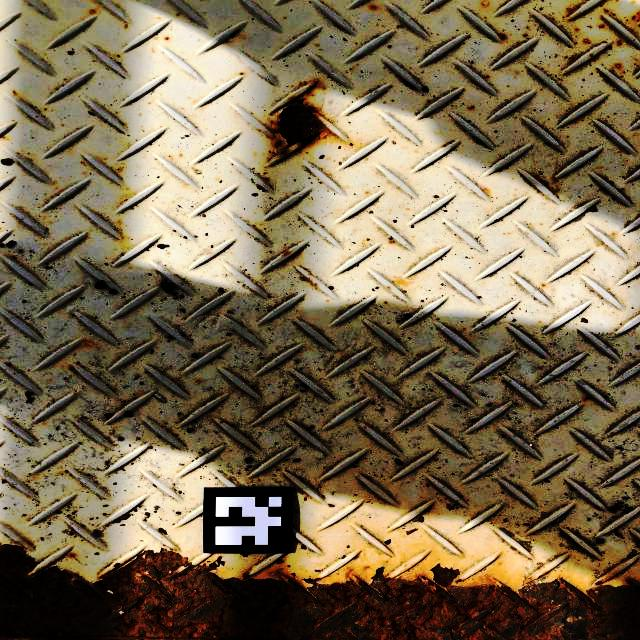Corrosion: (0, 540, 640, 640), (267, 75, 352, 164), (565, 8, 580, 18), (395, 277, 411, 286), (631, 9, 640, 23), (480, 186, 489, 195), (497, 33, 506, 41), (616, 39, 623, 47), (384, 285, 391, 291), (598, 24, 606, 29), (466, 106, 475, 110), (583, 396, 588, 402)
